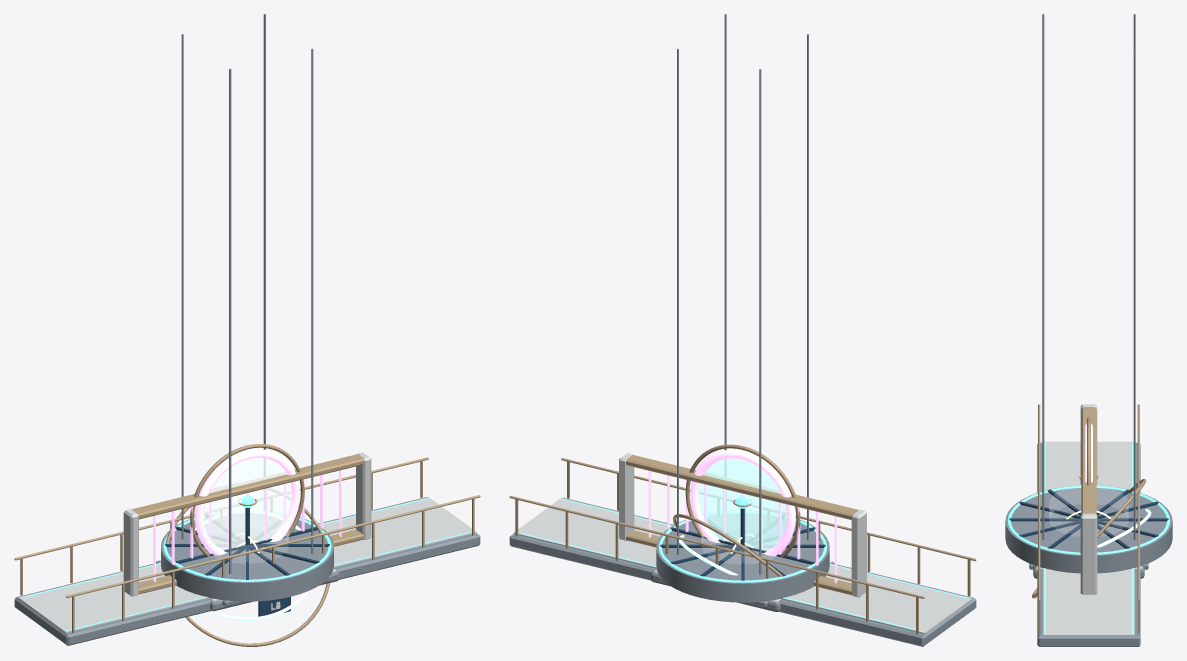
The model's file is props.glb.
3 views of the same model, side by side, from view 1: azimuth 30°, elevation 25°; view 2: azimuth 150°, elevation 25°; view 3: azimuth 270°, elevation 25° (orthographic). The views are drawn at different scales.
Visible parts, largest first — view 1: walkway__P_light, fan__P_steel, lift_L1__P_steel, portal__P_holo, walkway__P_steel, walkway__P_brass, barrier__P_brass, barrier__P_light, portal__P_violet, fan__P_navy, barrier__P_pink, portal__P_brass (+4 smaller); view 2: walkway__P_light, fan__P_steel, portal__P_holo, walkway__P_steel, lift_L1__P_steel, walkway__P_brass, barrier__P_brass, barrier__P_light, portal__P_violet, fan__P_navy, barrier__P_pink, portal__P_brass (+3 smaller); view 3: walkway__P_light, fan__P_steel, lift_L1__P_steel, walkway__P_steel, fan__P_navy, air_column__P_air, barrier__P_light, walkway__P_brass, barrier__P_brass, fan__P_cyan, walkway__P_cyan, info_rings__P_brass (+2 smaller).
Boxes of the visible parts, x1,y1,x2,y2 form: walkway__P_light: [18, 497, 476, 633]; fan__P_steel: [161, 513, 333, 601]; lift_L1__P_steel: [181, 14, 313, 574]; portal__P_holo: [203, 458, 292, 550]; walkway__P_steel: [14, 497, 480, 645]; walkway__P_brass: [14, 457, 480, 633]; barrier__P_brass: [131, 454, 364, 594]; barrier__P_light: [123, 452, 371, 596]; portal__P_violet: [194, 449, 300, 555]; fan__P_navy: [165, 514, 329, 579]; barrier__P_pink: [153, 470, 341, 582]; portal__P_brass: [190, 444, 304, 556]; walkway__P_light: [513, 498, 972, 633]; fan__P_steel: [656, 513, 829, 602]; portal__P_holo: [698, 458, 786, 551]; walkway__P_steel: [509, 497, 976, 646]; lift_L1__P_steel: [677, 14, 808, 574]; walkway__P_brass: [509, 458, 976, 634]; barrier__P_brass: [626, 455, 858, 595]; barrier__P_light: [619, 453, 866, 597]; portal__P_violet: [690, 449, 795, 556]; fan__P_navy: [660, 515, 825, 580]; barrier__P_pink: [648, 471, 837, 583]; portal__P_brass: [685, 444, 800, 557]; walkway__P_light: [1043, 441, 1134, 636]; fan__P_steel: [1005, 485, 1172, 573]; lift_L1__P_steel: [1042, 14, 1135, 540]; walkway__P_steel: [1037, 442, 1140, 646]; fan__P_navy: [1009, 489, 1168, 548]; air_column__P_air: [1049, 487, 1128, 536]; barrier__P_light: [1080, 404, 1097, 594]; walkway__P_brass: [1038, 404, 1139, 633]; barrier__P_brass: [1081, 407, 1096, 514]; fan__P_cyan: [1007, 485, 1170, 554]; walkway__P_cyan: [1044, 442, 1133, 634]; info_rings__P_brass: [1031, 479, 1145, 598].
Size of the model in its own units: 11.6 by 15.58 by 4.2.
